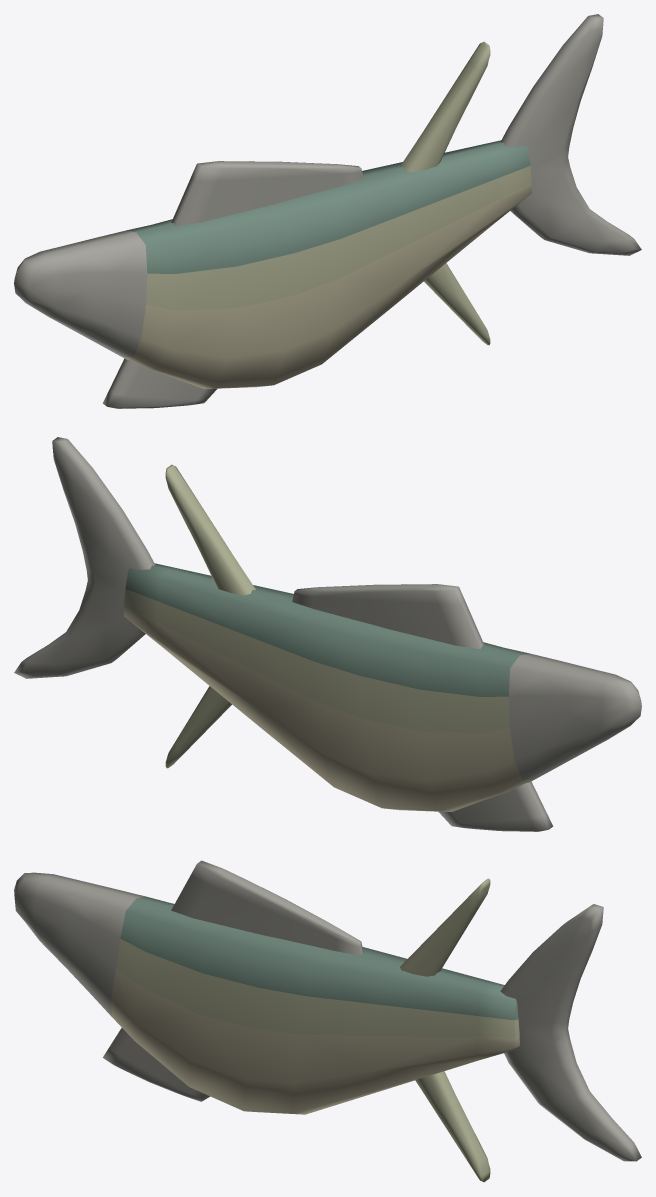
Rendered from Prop_Fish_Tuna.glb.
3 renders of one model, top to bottom at view 1: azimuth 30°, elevation 25°; view 2: azimuth 150°, elevation 25°; view 3: azimuth 330°, elevation 25°, orthographic.
Parts seen in each view (by area): view 1: Prop_Fish_Tuna; view 2: Prop_Fish_Tuna; view 3: Prop_Fish_Tuna.
Boxes of the visible parts, <box> form: Prop_Fish_Tuna: <box>14,14,641,408</box>; Prop_Fish_Tuna: <box>14,437,641,831</box>; Prop_Fish_Tuna: <box>14,860,641,1182</box>.
Bounding box in the file's own units: 2.13 × 0.9759 × 0.2368.
Materials: 1 (1 with a texture image).
